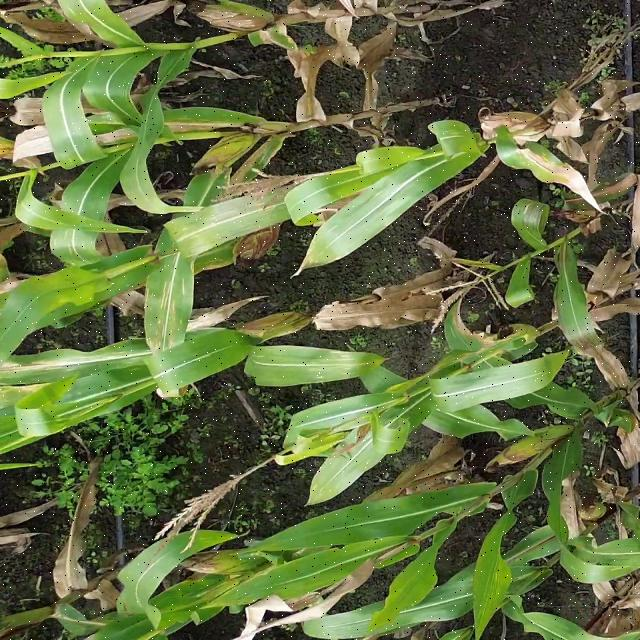gray-leaf-spot: (128, 250, 217, 367), (0, 327, 137, 398), (252, 342, 382, 397)
northern-leaf-blight: (495, 142, 571, 195)
